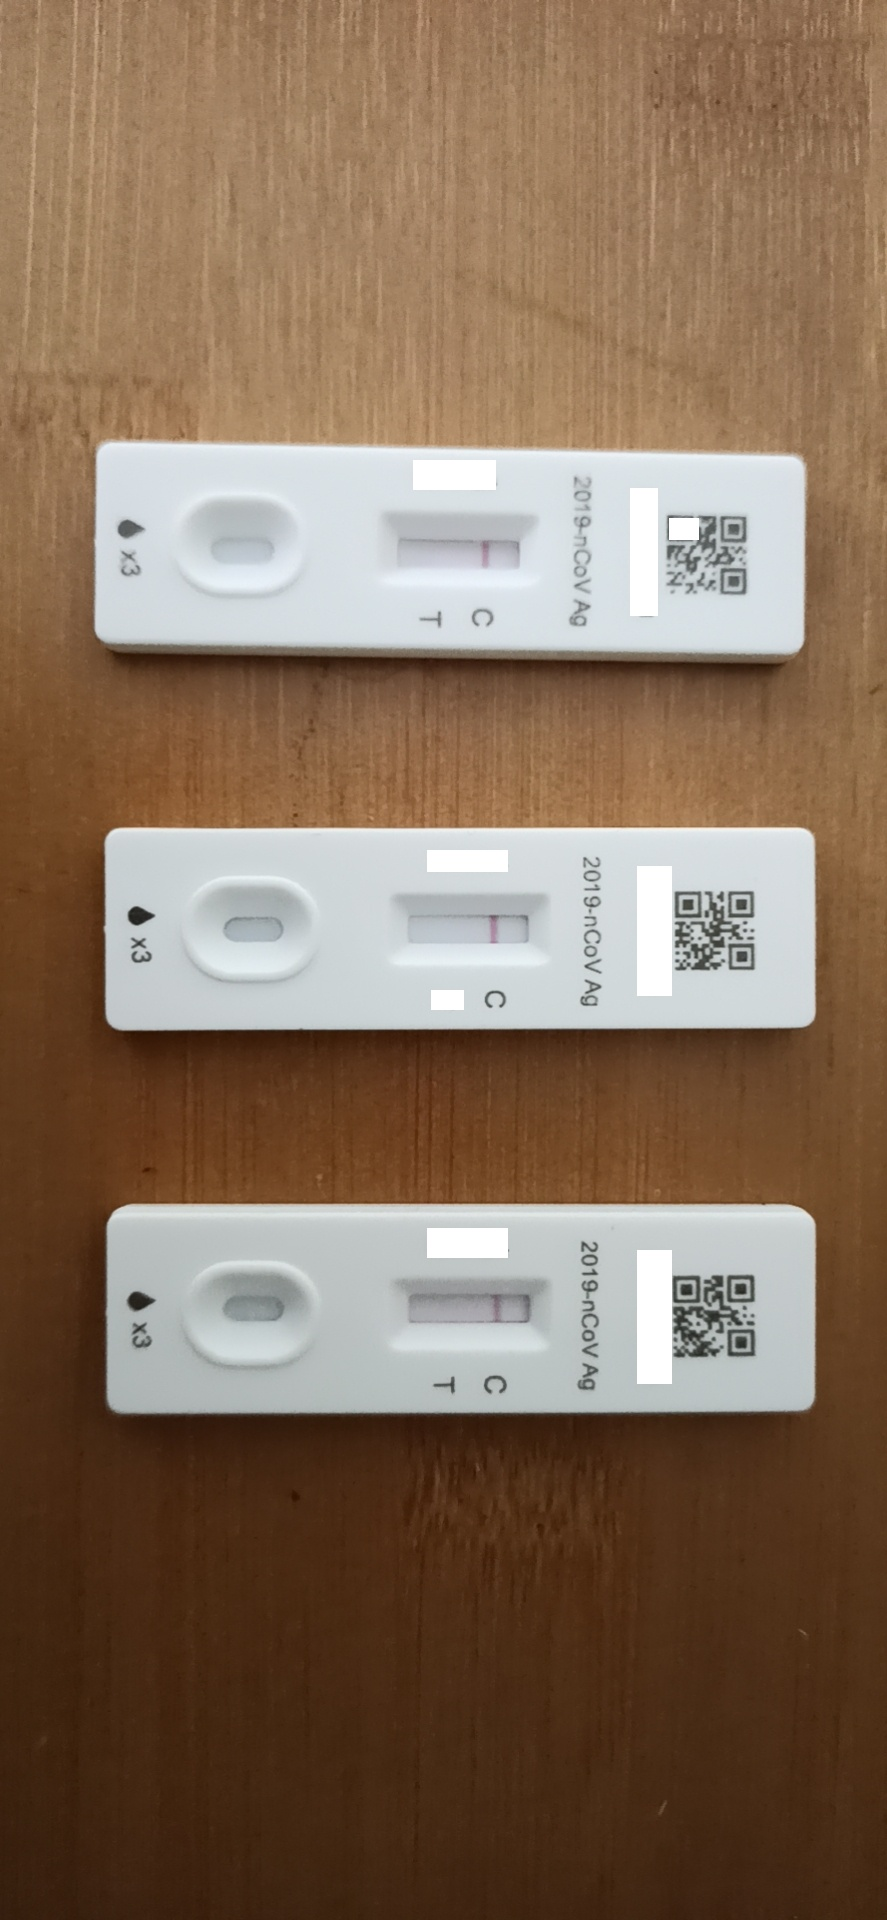negative: (382, 508, 549, 584), (396, 889, 553, 962), (394, 1278, 550, 1341)
